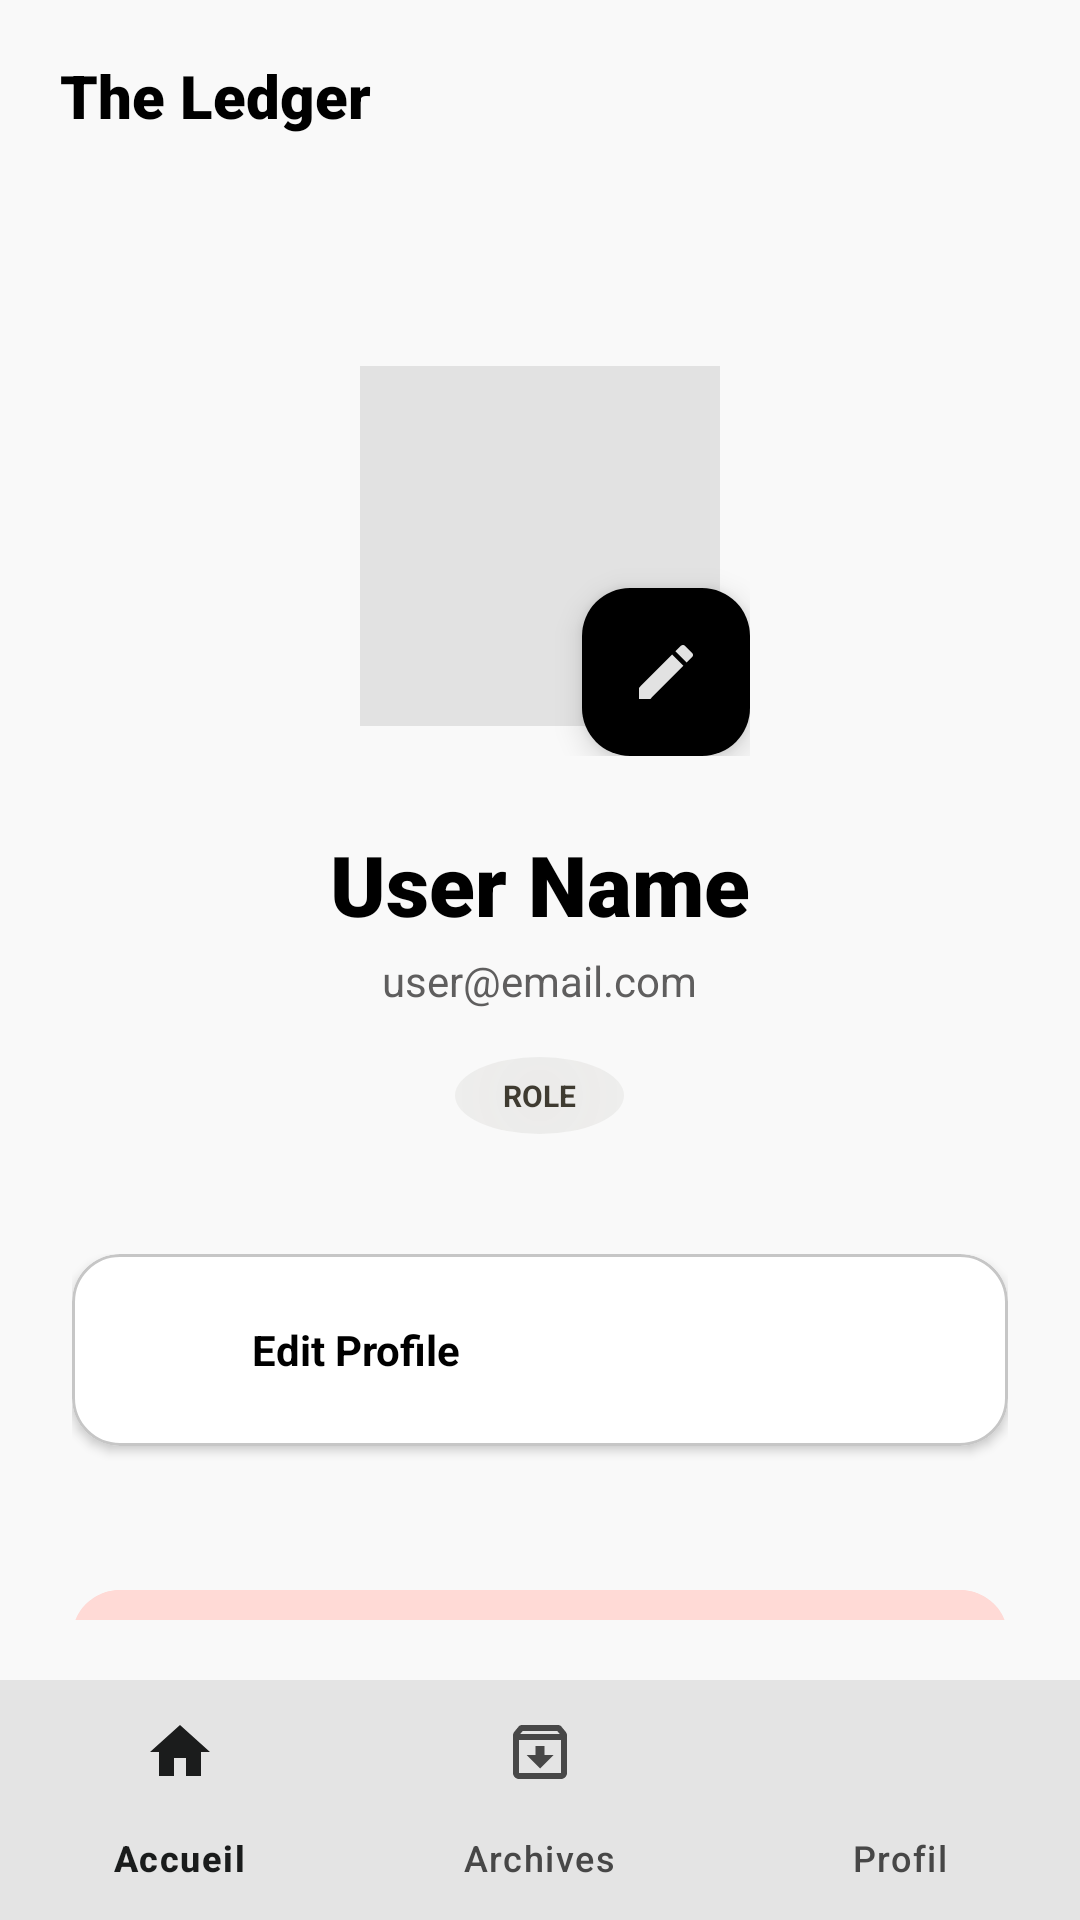

Icons on this 1080x1920 Android screen, each with its box as (x1, y1, x2, y2):
edit: (582, 588, 750, 756)
